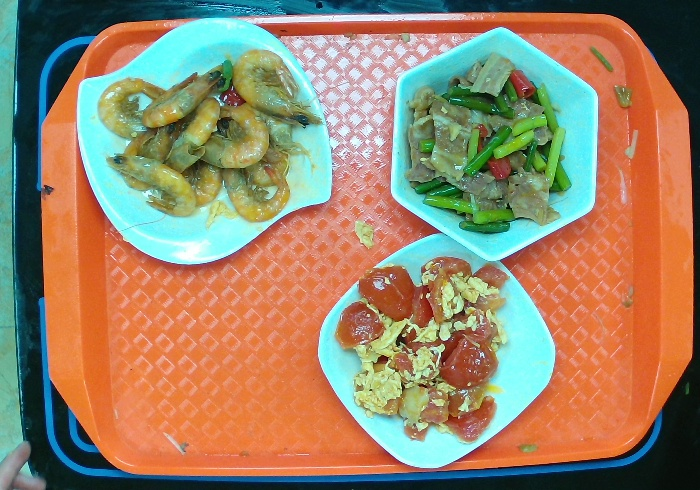RJxy-Liu_Jiao_Wan: (379, 24, 612, 267)
RJxy-Shuang_Jiao_Pan: (69, 13, 335, 267)
RJxy-Si_Fang_Wan: (314, 229, 561, 475)
